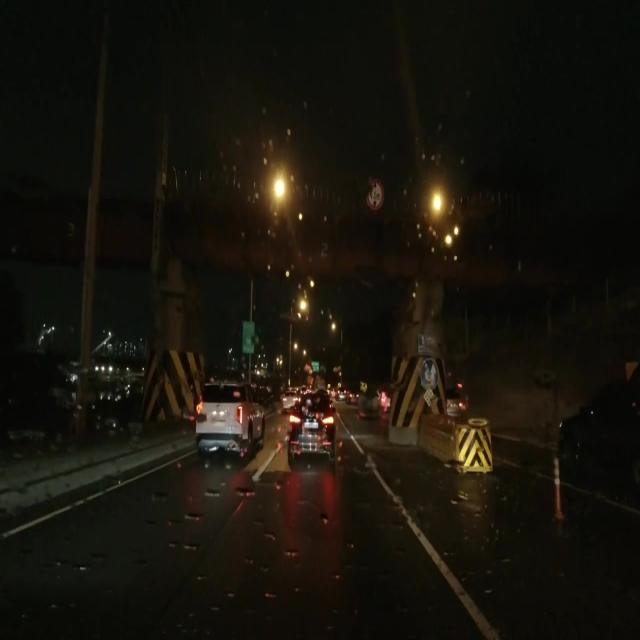Car: (553, 375, 636, 505), (197, 381, 262, 452), (284, 384, 336, 461)
